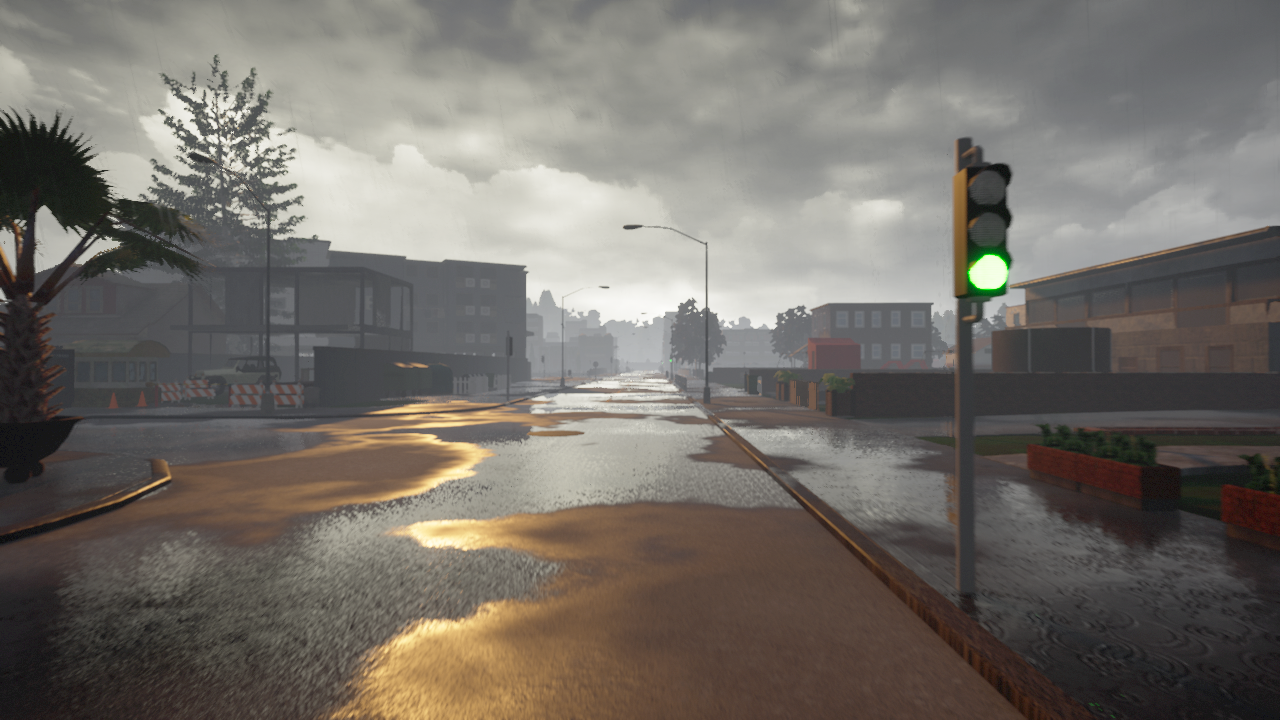green: (952, 163, 1014, 301)
